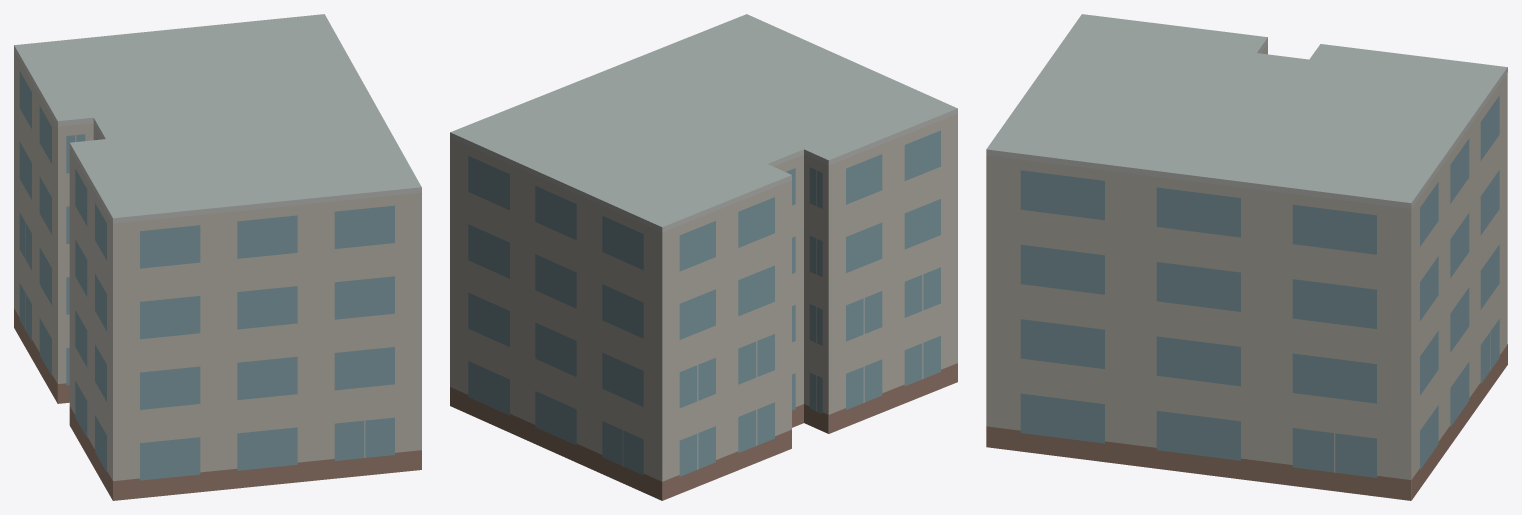
The model's file is survey-upis-32871969.glb.
3 views of the same model, side by side, from view 1: azimuth 30°, elevation 25°; view 2: azimuth 150°, elevation 25°; view 3: azimuth 270°, elevation 25° (orthographic). The views are drawn at different scales.
Visible parts, largest first — view 1: survey-upis-32871969.tmp; view 2: survey-upis-32871969.tmp; view 3: survey-upis-32871969.tmp.
Part boxes in pixels (x1,y1,x2,y2): survey-upis-32871969.tmp: [14, 14, 421, 500]; survey-upis-32871969.tmp: [450, 14, 957, 500]; survey-upis-32871969.tmp: [986, 14, 1507, 500].
Size of the model in its own units: 17.45 by 12.8 by 20.33.
